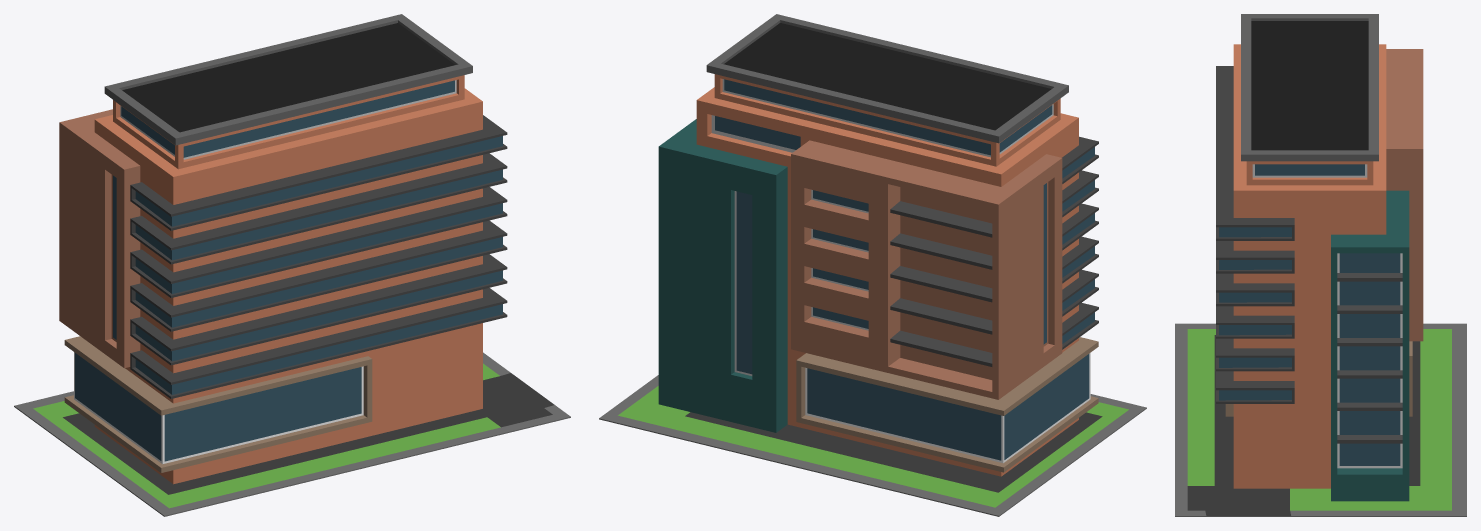
The model's file is bldg-sky-c.glb.
3 renders of one model, left to right at view 1: azimuth 30°, elevation 25°; view 2: azimuth 150°, elevation 25°; view 3: azimuth 270°, elevation 25°, orthographic. The views are drawn at different scales.
Parts seen in each view (by area): view 1: highlivingbuilding_c; view 2: highlivingbuilding_c; view 3: highlivingbuilding_c.
Boxes of the visible parts, bbox=[...] form: highlivingbuilding_c: bbox=[14, 14, 570, 516]; highlivingbuilding_c: bbox=[599, 14, 1146, 516]; highlivingbuilding_c: bbox=[1175, 14, 1466, 516].
Size of the model in its own units: 39 by 31.4 by 25.
1 material, 1 textured.
